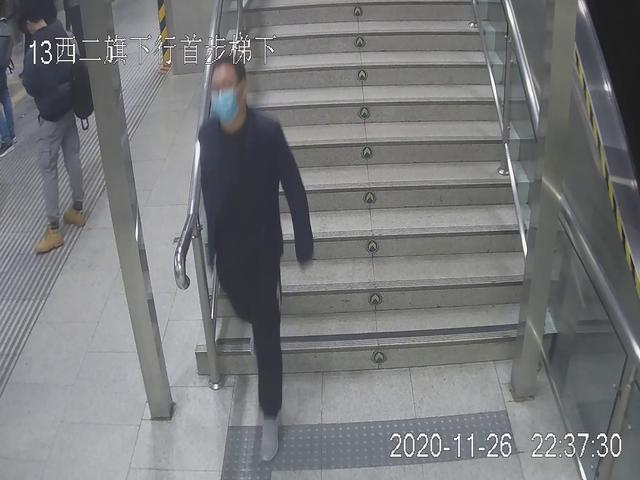person: (194, 56, 317, 463), (13, 1, 101, 256)
